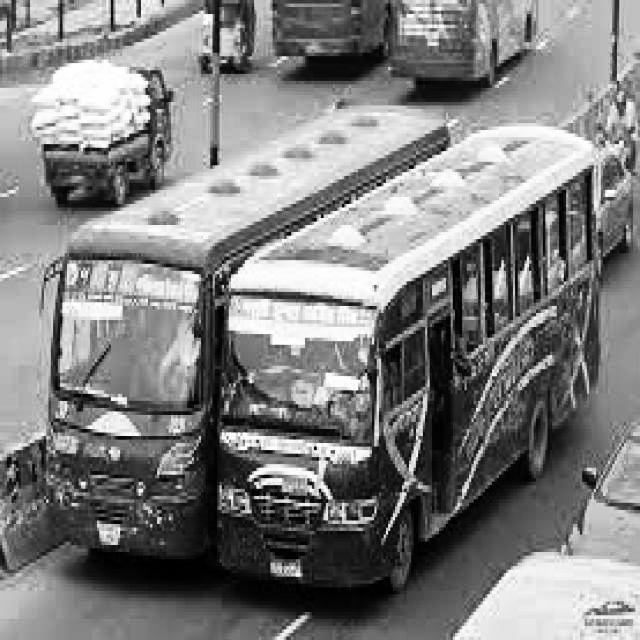Bus: (213, 116, 629, 588), (41, 203, 213, 568)
